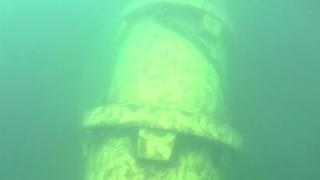pipe: (81, 1, 245, 179)
